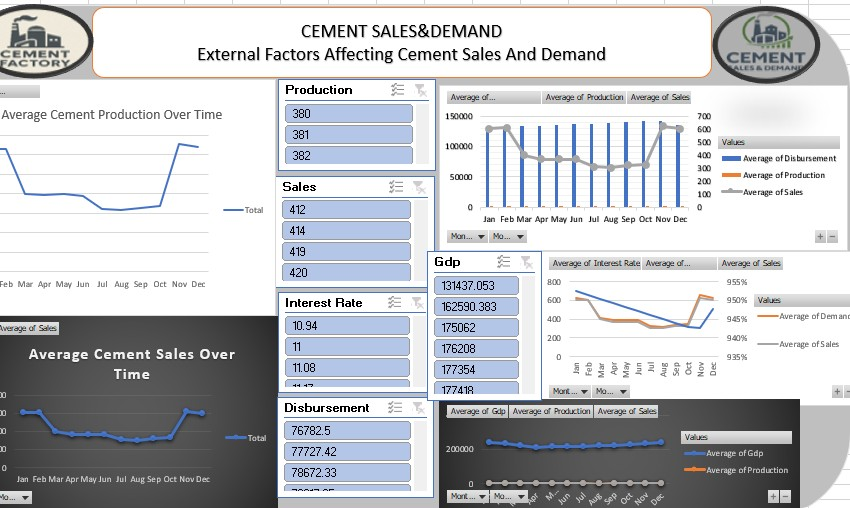

Layout of this report page (visuals, bound fields, positions):
{"tool":"powerbi","page":{"name":"Page 2","canvas":[1280,720],"ordinal":0},"visuals":[{"type":"shape","box":[0,0,1279.2,660.6],"z":0},{"type":"qnaVisual","box":[135.2,0,1065.7,14.3],"z":2000},{"type":"image","box":[0,15.1,406.3,83.2],"z":3000},{"type":"lineChart","fields":{"Y":["Avg(Clean Data.Production)"],"Category":["Clean Data.Month.Variation.Date Hierarchy.Month"]},"box":[0,98.8,694.6,330.3],"z":4000},{"type":"areaChart","fields":{"Category":["Clean Data.Month.Variation.Date Hierarchy.Month"],"Y":["Avg(Clean Data.Sales)"]},"box":[57.3,431.1,637.8,229],"z":5000},{"type":"lineChart","fields":{"Y":["Avg(Clean Data.Gdp)"],"Category":["Clean Data.Month.Variation.Date Hierarchy.Month"]},"box":[695.4,98.3,583.9,215.4],"z":6000},{"type":"lineChart","fields":{"Y":["Avg(Clean Data.Disbursement)"],"Category":["Clean Data.Month.Variation.Date Hierarchy.Month"]},"box":[695.4,313.7,583.9,190.9],"z":7000},{"type":"lineChart","fields":{"Y":["Avg(Clean Data.Interest Rate)"],"Category":["Clean Data.Month.Variation.Date Hierarchy.Month"]},"box":[694.6,506.8,461.5,153.8],"z":8000},{"type":"textbox","box":[245.7,15.1,723.8,83.2],"z":8001},{"type":"image","box":[798.5,14.3,429.5,84.3],"z":8002}]}

Visuals, with their boxes on the page's 1280x720 design canvas (x1, y1, x2, y2). These are canvas units, not pixel positions in the 850x508 screenshot, which may show the page scaled, cropped or inside an application window:
shape: <bbox>0, 0, 1279, 661</bbox>
qnaVisual: <bbox>135, 0, 1201, 14</bbox>
image: <bbox>0, 15, 406, 98</bbox>
lineChart - Avg(Clean Data.Production) x Clean Data.Month.Variation.Date Hierarchy.Month: <bbox>0, 99, 695, 429</bbox>
areaChart - Clean Data.Month.Variation.Date Hierarchy.Month x Avg(Clean Data.Sales): <bbox>57, 431, 695, 660</bbox>
lineChart - Avg(Clean Data.Gdp) x Clean Data.Month.Variation.Date Hierarchy.Month: <bbox>695, 98, 1279, 314</bbox>
lineChart - Avg(Clean Data.Disbursement) x Clean Data.Month.Variation.Date Hierarchy.Month: <bbox>695, 314, 1279, 505</bbox>
lineChart - Avg(Clean Data.Interest Rate) x Clean Data.Month.Variation.Date Hierarchy.Month: <bbox>695, 507, 1156, 661</bbox>
textbox: <bbox>246, 15, 970, 98</bbox>
image: <bbox>798, 14, 1228, 99</bbox>
